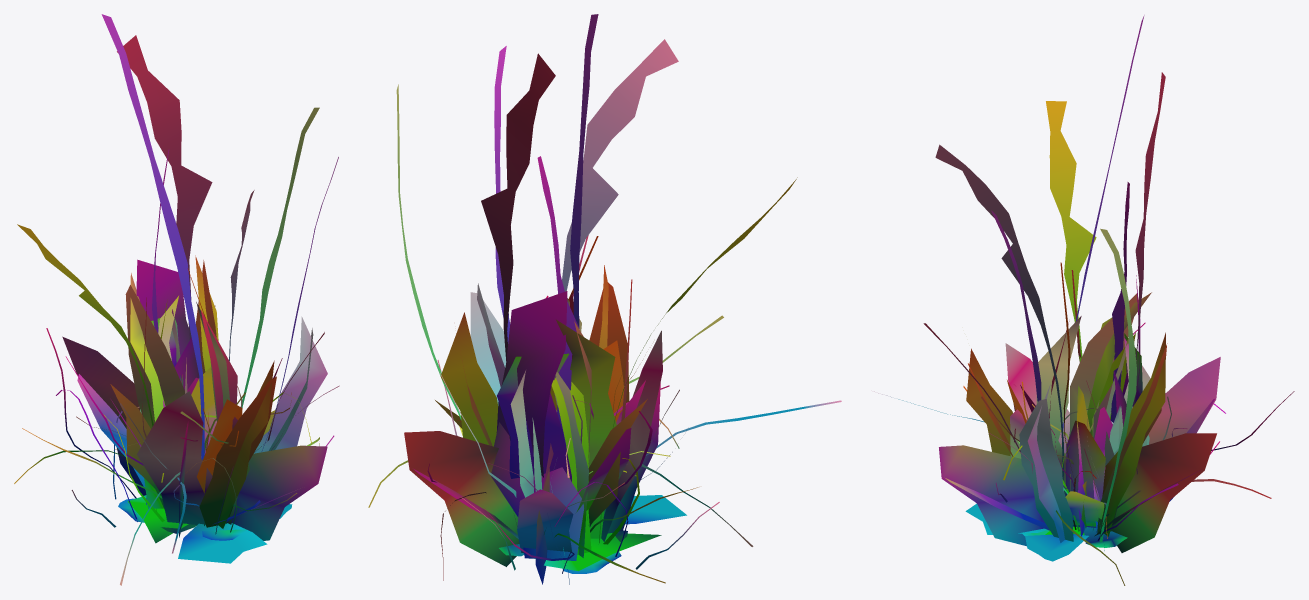
File: uddmcgbia_VarA_LOD0.fbx
3 views of the same model, side by side, from view 1: azimuth 30°, elevation 25°; view 2: azimuth 150°, elevation 25°; view 3: azimuth 270°, elevation 25° (orthographic). The views are drawn at different scales.
Parts seen in each view (by area): view 1: _2d7f_VarA_LOD0; view 2: _2d7f_VarA_LOD0; view 3: _2d7f_VarA_LOD0.
Part boxes in pixels (x1,y1,x2,y2): _2d7f_VarA_LOD0: [14, 14, 339, 585]; _2d7f_VarA_LOD0: [368, 14, 841, 584]; _2d7f_VarA_LOD0: [874, 15, 1294, 585].
Size of the model in its own units: 42.27 by 62.02 by 47.73.
